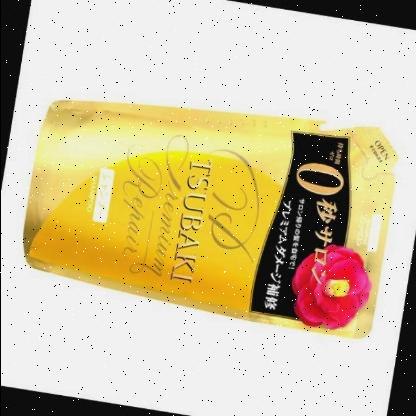Others: (23, 97, 401, 339)
